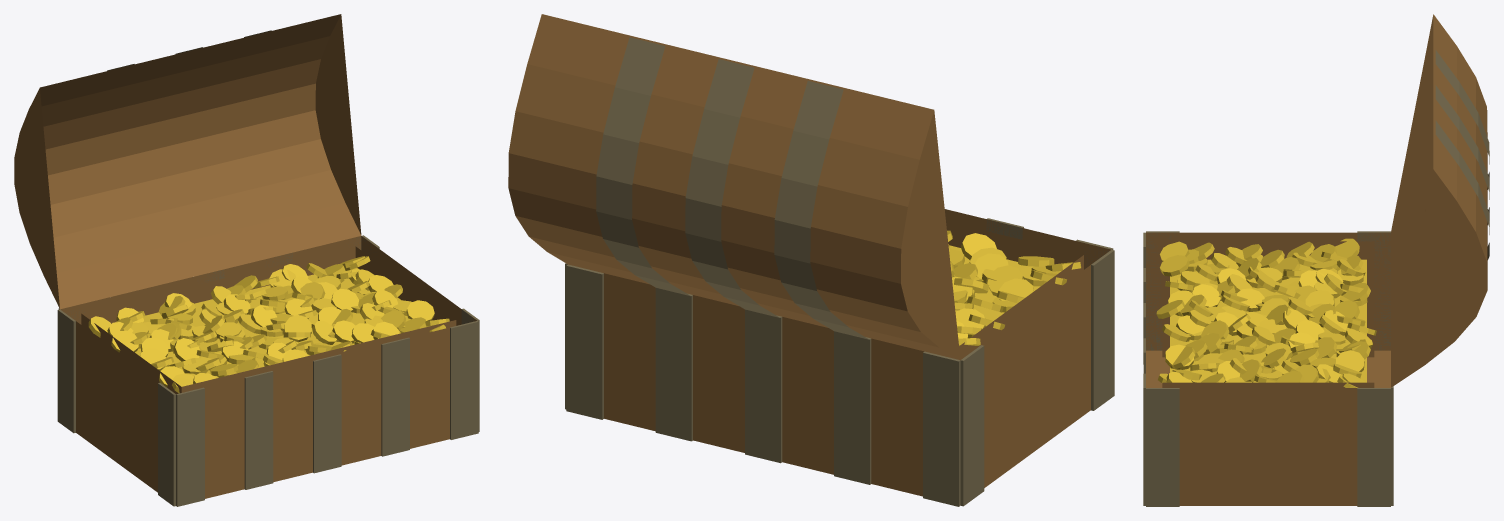
The model's file is chest_open_coins.fbx.
3 renders of one model, left to right at view 1: azimuth 30°, elevation 25°; view 2: azimuth 150°, elevation 25°; view 3: azimuth 270°, elevation 25°, orthographic. The views are drawn at different scales.
Visible parts, largest first — view 1: Chest_Lid, Chest_Body, Chest_Interior, Band_0_Front, Corner_FL_Y, Corner_FR_Y, Band_2_Front, Band_1_Front, Corner_BL_X, Corner_FL_X, Coin_Mass; view 2: Chest_Lid, Chest_Body, Band_1_Arch, Band_0_Arch, Band_2_Arch, Corner_BL_Y, Corner_BR_Y, Band_0_Back, Band_1_Back, Band_2_Back, Corner_BL_X, Chest_Interior (+2 smaller); view 3: Chest_Body, Chest_Lid, Chest_Interior, Corner_BR_X, Corner_FR_X, Coin_Mass, Corner_BL_X, Band_2_Arch, Band_0_Arch, Band_1_Arch, Corner_FL_X, Coin_Dbl_00 (+4 smaller).
Boxes of the visible parts, x1,y1,x2,y2 form: Chest_Lid: (14,14,361,309); Chest_Body: (60,236,476,498); Chest_Interior: (81,246,456,394); Band_0_Front: (244,371,273,489); Corner_FL_Y: (176,387,204,506); Corner_FR_Y: (450,321,478,439); Band_2_Front: (381,337,409,456); Band_1_Front: (313,354,341,473); Corner_BL_X: (57,309,75,433); Corner_FL_X: (158,382,175,506); Coin_Mass: (135,268,407,378); Chest_Lid: (508,14,960,360); Chest_Body: (604,209,1110,496); Band_1_Arch: (685,59,779,317); Band_0_Arch: (774,81,869,339); Band_2_Arch: (596,37,690,296); Corner_BL_Y: (923,351,960,506); Corner_BR_Y: (566,264,603,419); Band_0_Back: (834,331,871,484); Band_1_Back: (745,309,782,463); Band_2_Back: (655,288,692,441); Corner_BL_X: (960,345,984,506); Chest_Interior: (946,221,1083,359); Chest_Body: (1146,232,1390,505); Chest_Lid: (1391,14,1487,387); Chest_Interior: (1162,241,1374,387); Corner_BR_X: (1357,388,1390,506); Corner_FR_X: (1146,388,1179,506); Coin_Mass: (1170,259,1366,382); Corner_BL_X: (1357,231,1390,350); Band_2_Arch: (1435,120,1489,259); Band_0_Arch: (1435,50,1489,189); Band_1_Arch: (1435,85,1489,224); Corner_FL_X: (1146,231,1179,350); Coin_Dbl_00: (1160,255,1189,276).
Size of the model in its own units: 1003 by 999 by 932.
